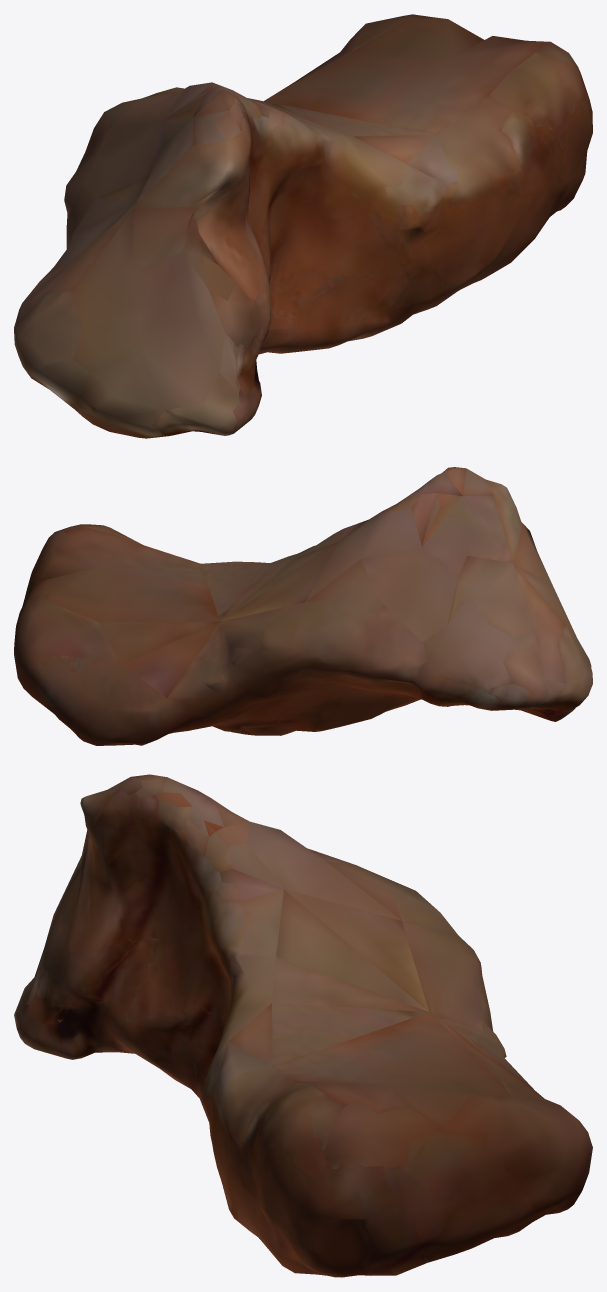
File: hall.glb
3 views of the same model, one above another, from view 1: azimuth 30°, elevation 25°; view 2: azimuth 150°, elevation 25°; view 3: azimuth 270°, elevation 25° (orthographic). The views are drawn at different scales.
Bounding box in the file's own units: 0.7108 × 0.3574 × 0.5334.
1 material, 1 textured.
